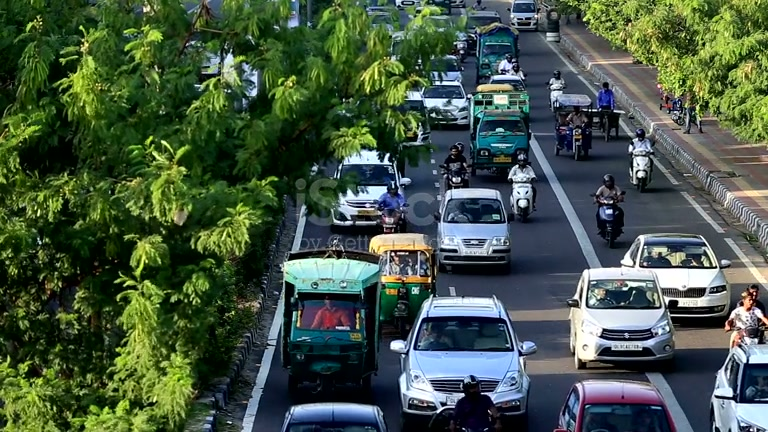car: (391, 294, 538, 429), (565, 266, 677, 371), (620, 233, 732, 321), (553, 375, 690, 431), (434, 188, 513, 274), (710, 345, 768, 431), (470, 110, 530, 179), (280, 402, 389, 432), (420, 82, 471, 129), (510, 1, 539, 30)
motorcycle: (595, 194, 625, 248), (555, 124, 592, 160), (510, 179, 537, 223), (631, 151, 653, 193), (555, 126, 580, 159)
pedestrian: (450, 376, 502, 431), (725, 291, 767, 344), (506, 149, 539, 213), (592, 173, 626, 225), (440, 142, 470, 189), (628, 128, 655, 180), (310, 297, 352, 329), (596, 80, 618, 139), (418, 324, 453, 350)
truck: (280, 247, 381, 402)
